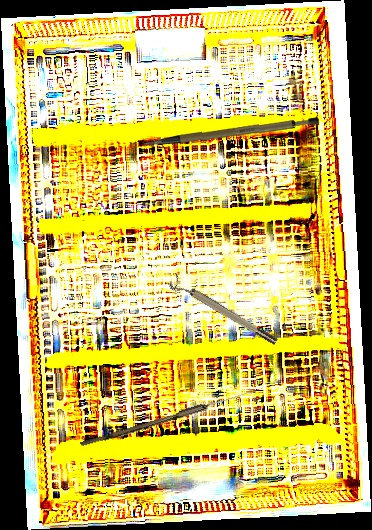Fixation Ring: (167, 272, 279, 352)
Scalpel Handle: (141, 112, 320, 149)
Surgical Spoon: (80, 387, 251, 451)
